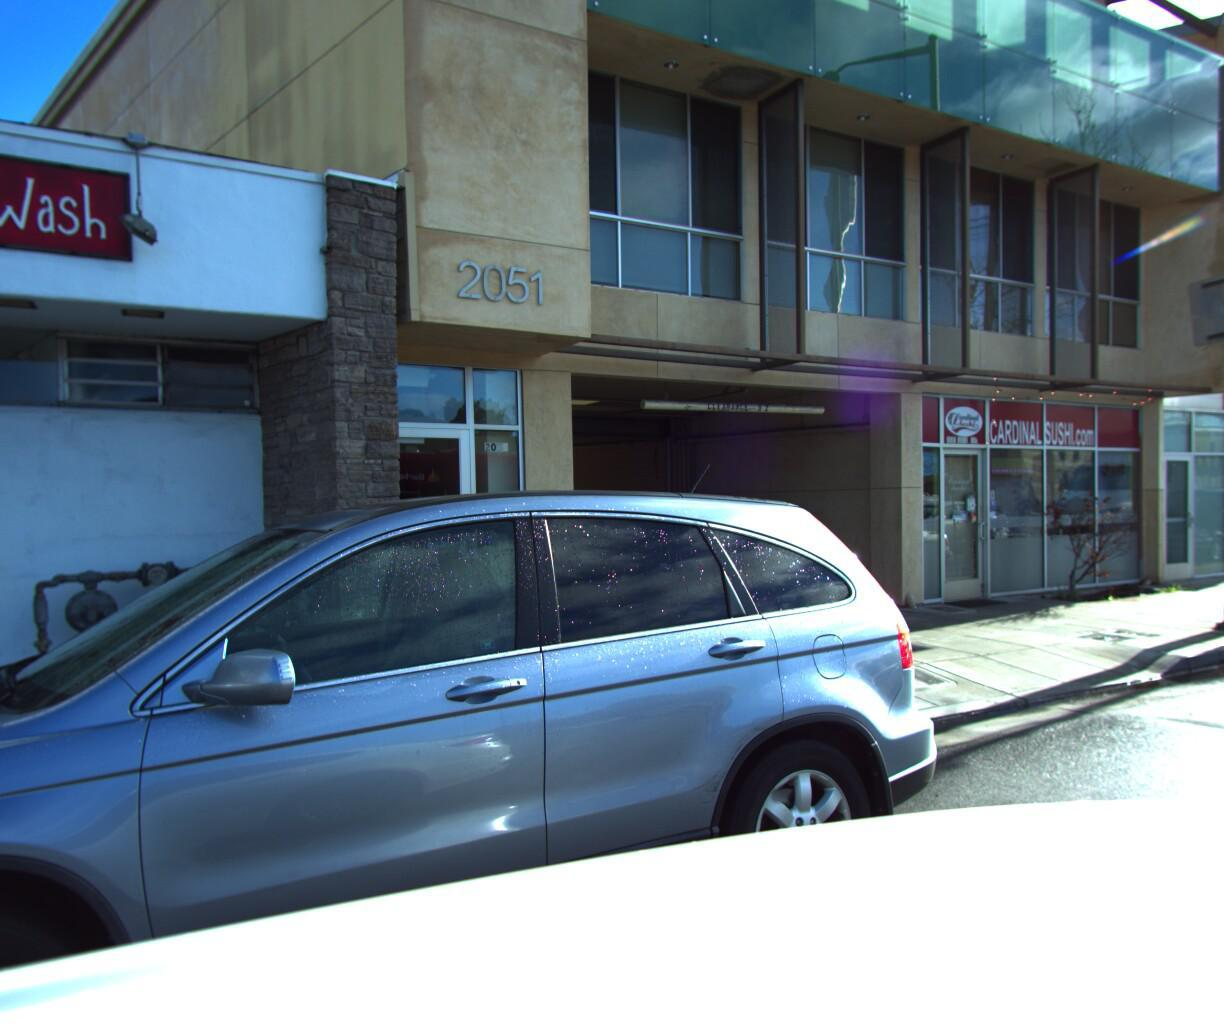car: (0, 481, 980, 1024)
